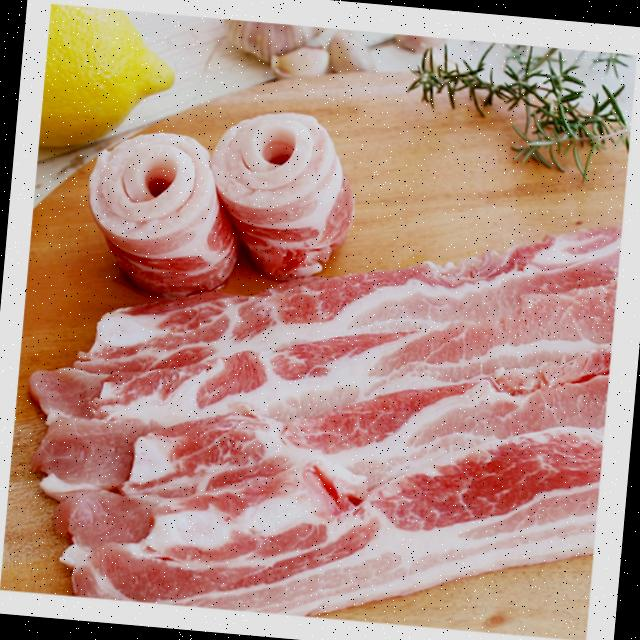meat: (15, 116, 640, 640)
